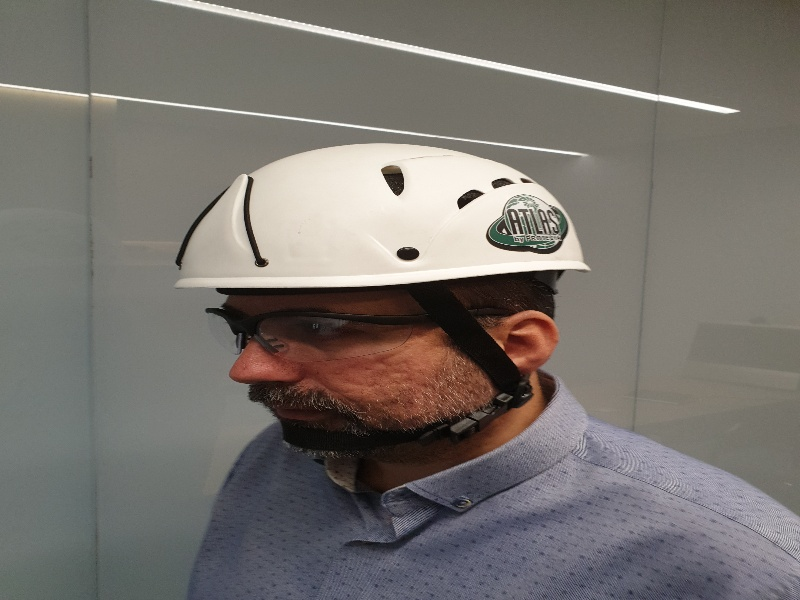Baret: (178, 142, 588, 284)
Gozluk: (206, 304, 521, 362)
